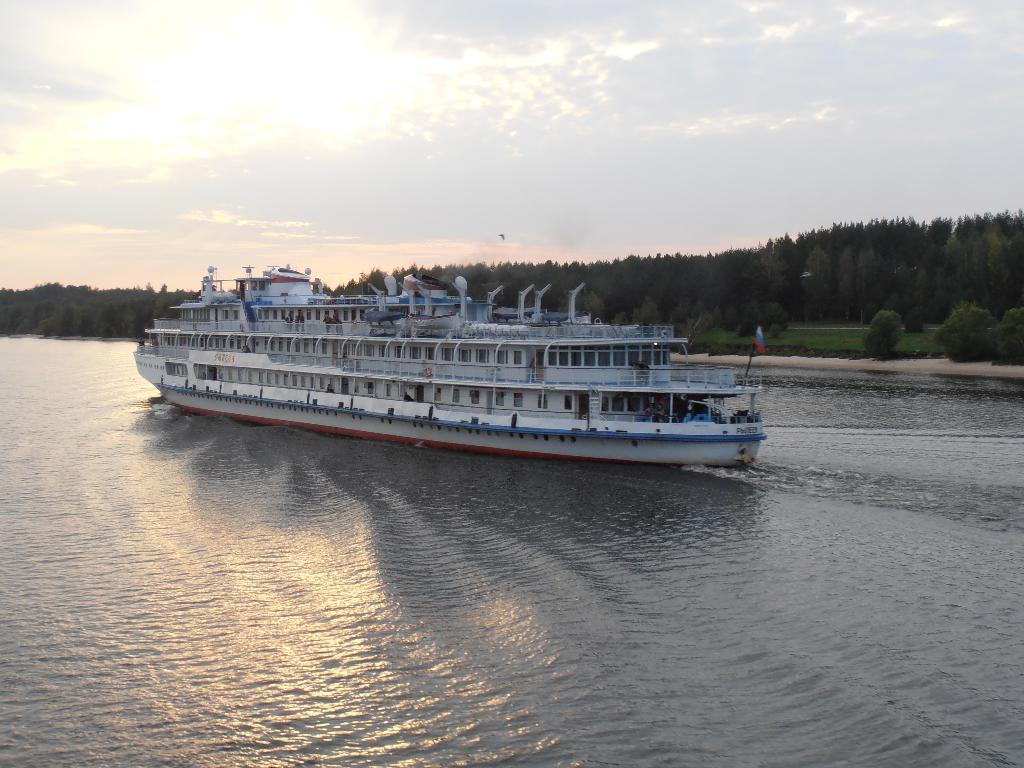PassengerShip: (117, 244, 773, 469)
